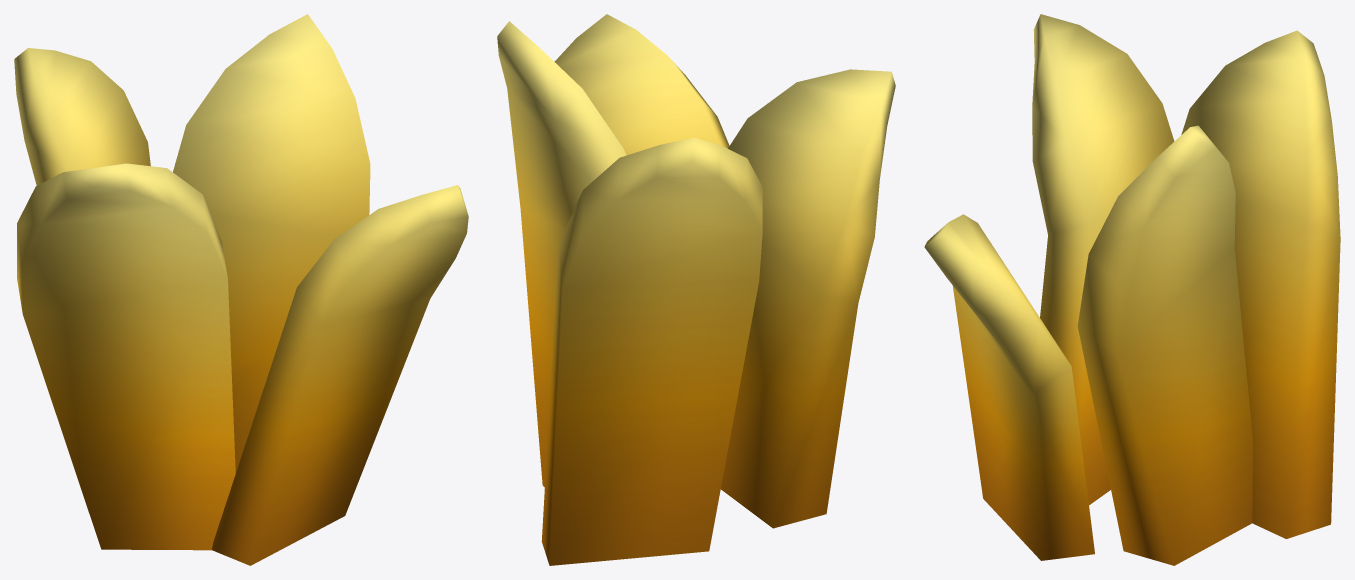
The model's file is OB_DD_Gras_10.fbx.
3 renders of one model, left to right at view 1: azimuth 30°, elevation 25°; view 2: azimuth 150°, elevation 25°; view 3: azimuth 270°, elevation 25°, orthographic. The views are drawn at different scales.
Visible parts, largest first — view 1: OB_DD_Gras_10; view 2: OB_DD_Gras_10; view 3: OB_DD_Gras_10.
Boxes of the visible parts, x1=… form: OB_DD_Gras_10: x1=14, y1=14, x2=468, y2=565; OB_DD_Gras_10: x1=497, y1=14, x2=895, y2=565; OB_DD_Gras_10: x1=924, y1=14, x2=1340, y2=565.
Bounding box in the file's own units: 60.31 × 67.49 × 56.4.
